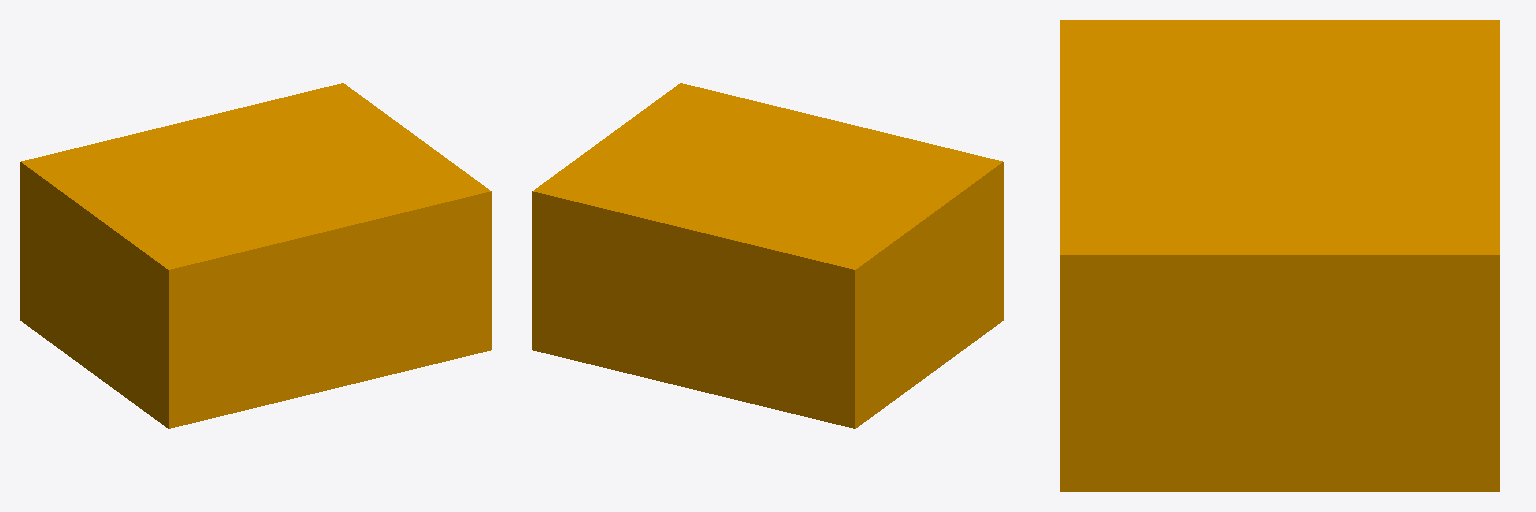
robot.urdf — 2x2:
<?xml version='1.0' encoding='UTF-8'?>
<robot name="2x2">
  <link name="base_link">
    <inertial>
      <origin xyz="0.0 0.0 0.0" rpy="0.0 0.0 0.0"/>
      <mass value="0.01"/>
      <inertia ixx="0.1" ixy="0.0" ixz="0.0" iyy="0.1" iyz="0.0" izz="0.1"/>
    </inertial>
    <visual>
      <geometry>
        <box size="0.034 0.027 0.016"/>
      </geometry>
      <material name=""/>
      <origin xyz="0.0 0.0 0.0" rpy="0.0 0.0 0.0"/>
    </visual>
    <collision>
      <geometry>
        <box size="0.034 0.027 0.016"/>
      </geometry>
      <origin xyz="0.0 0.0 0.0" rpy="0.0 0.0 0.0"/>
    </collision>
  </link>
  <material name="">
    <color rgba="0.26  0.883 0.037 1.   "/>
  </material>
  <contact>
    <lateral_friction value="1.0"/>
    <rolling_friction value="0.0"/>
    <contact_cfm value="0.0"/>
    <contact_erp value="1.0"/>
  </contact>
</robot>

--- Facts derived from the render (not from the file) ---
The picture shows the robot from 3 angles, left to right: view 1: azimuth 30°, elevation 25°; view 2: azimuth 150°, elevation 25°; view 3: azimuth 270°, elevation 25°; orthographic projection.
Model 2x2 with 1 links and 0 joints (none), rooted at base_link, posed every joint at zero.
Visible links, largest first — view 1: base_link; view 2: base_link; view 3: base_link.
Boxes of the visible links, x1,y1,x2,y2 form: base_link: (20, 83, 491, 428); base_link: (532, 83, 1003, 428); base_link: (1060, 20, 1499, 491).
Size in the robot's own frame: 0.034 by 0.027 by 0.016 metres.
Geometry: primitives only (box / cylinder / sphere), no mesh files.